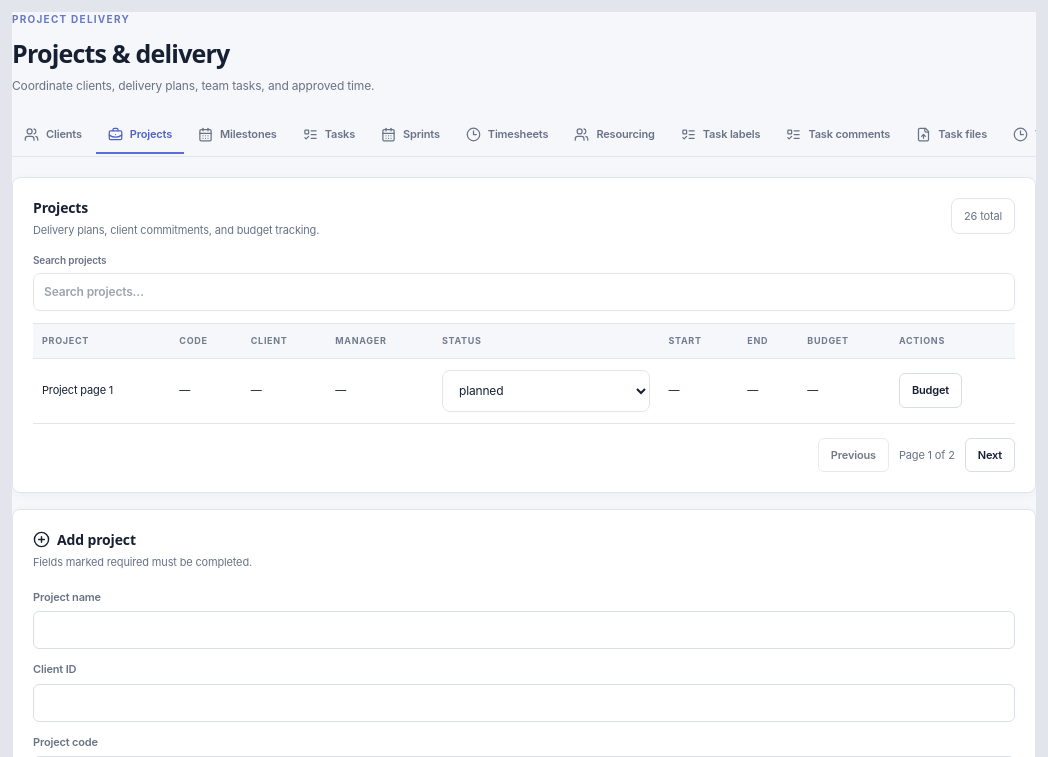
Test: ProjectsPage › supports list search and pagination
This screenshot has width=1048, height=757.
Check: the text "Project page 1" is shown, box top-left (33, 358), bottom-right (170, 424)
In the search field labelled "Search projects": (524, 292) top-left (33, 273), bottom-right (1015, 311), type "portal"
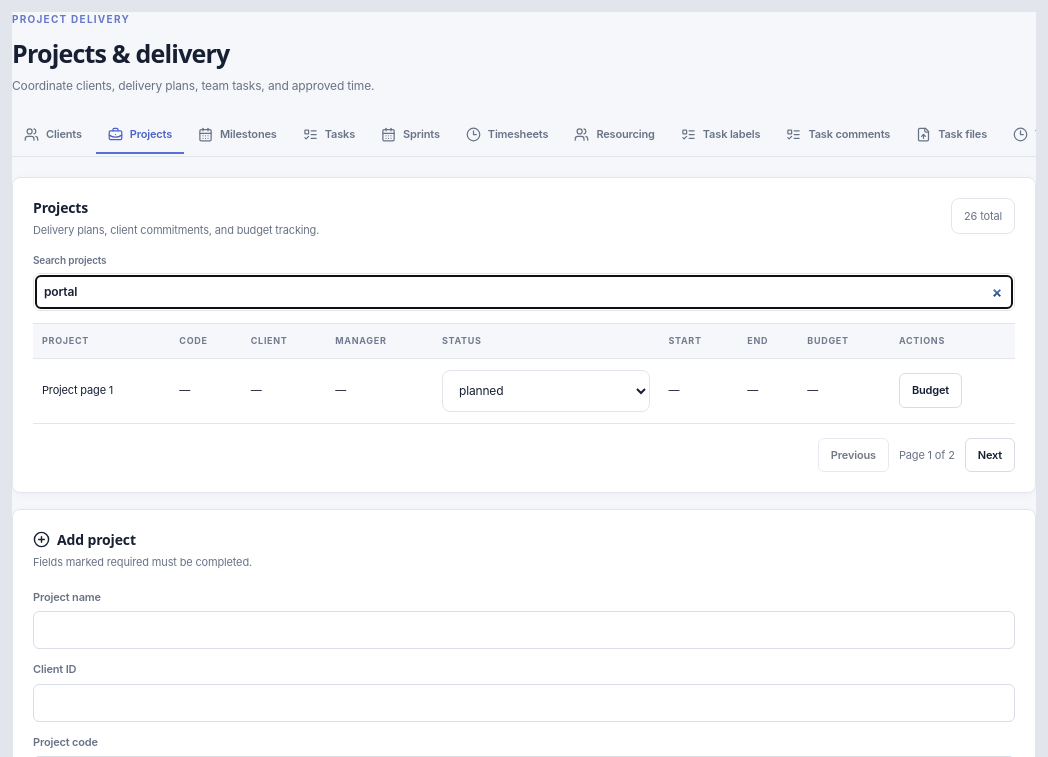
Click the button "Next": (990, 455) top-left (965, 438), bottom-right (1015, 472)
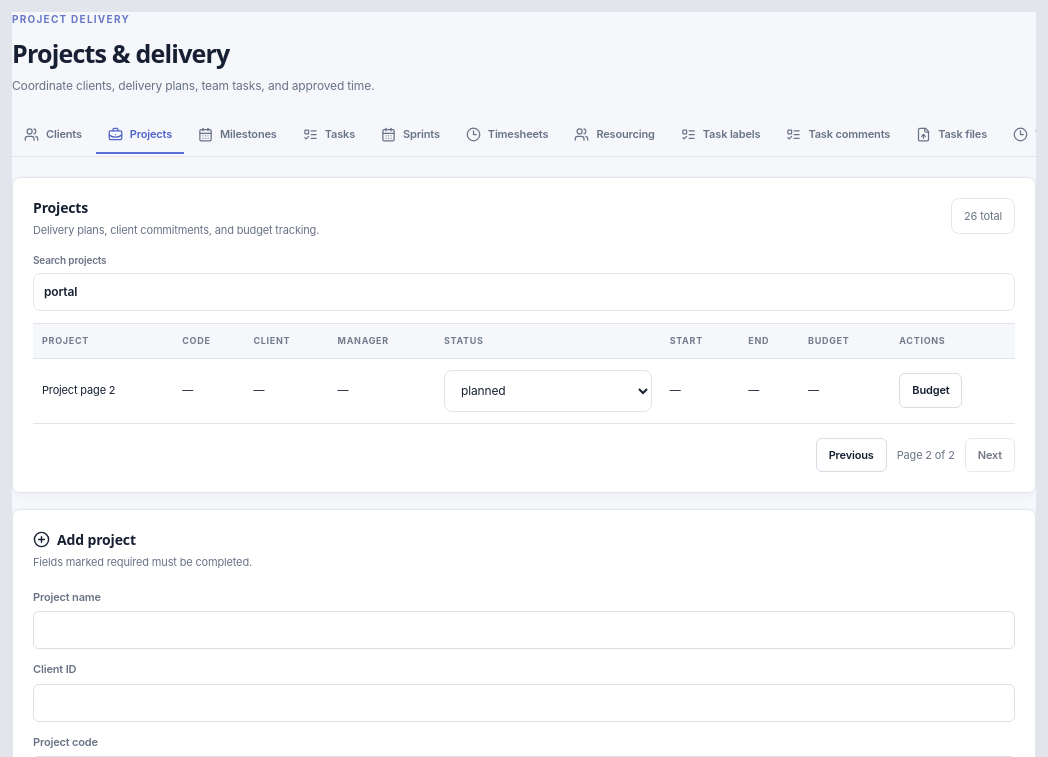
Check: the text "Project page 2" is shown, box top-left (33, 358), bottom-right (173, 424)
